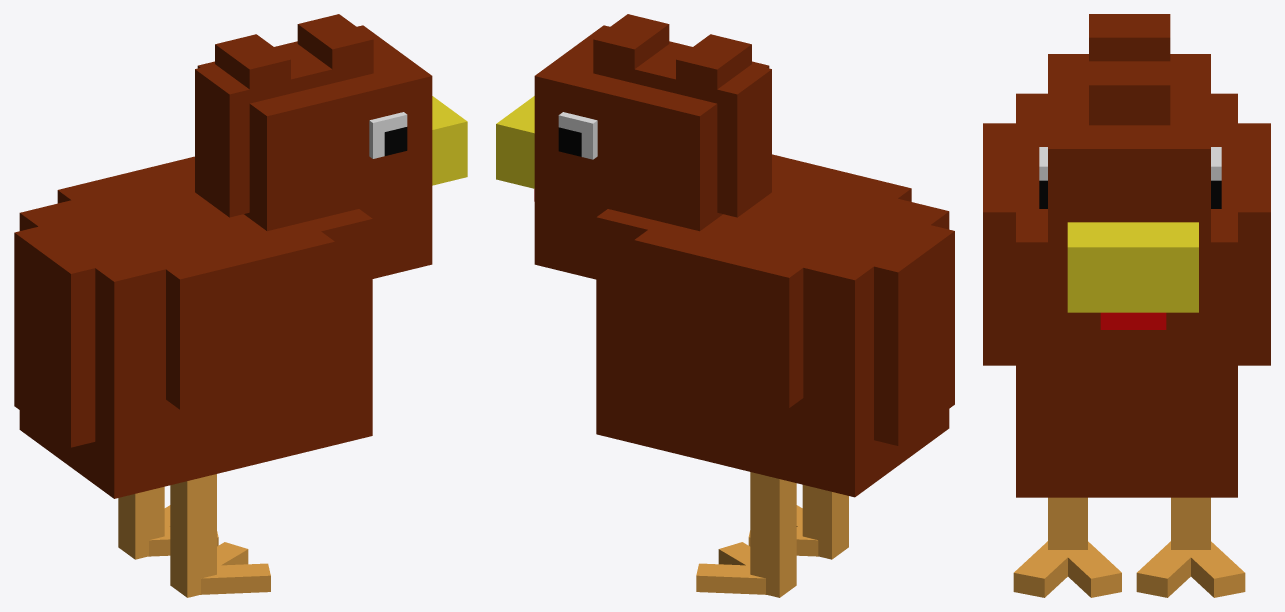
File: Rooster.fbx
The picture shows the model from 3 angles, left to right: view 1: azimuth 30°, elevation 25°; view 2: azimuth 150°, elevation 25°; view 3: azimuth 270°, elevation 25°; orthographic projection. The views are drawn at different scales.
Visible parts, largest first — view 1: Cube.004, Cube, Cube.005, Cube.001, Cube.002, Cube.003; view 2: Cube.004, Cube.001, Cube.005, Cube, Cube.003, Cube.002; view 3: Cube.004, Cube.005, Cube.003, Cube.002, Cube, Cube.001.
Part boxes in pixels (x1,y1,x2,y2): Cube.004: (14,14,432,498); Cube: (170,474,216,597); Cube.005: (369,96,467,185); Cube.001: (118,486,164,559); Cube.002: (200,542,270,594); Cube.003: (148,505,218,556); Cube.004: (534,14,954,497); Cube.001: (750,472,796,597); Cube.005: (496,96,597,201); Cube: (802,485,848,559); Cube.003: (696,542,766,594); Cube.002: (748,505,818,556); Cube.004: (983,14,1270,497); Cube.005: (1039,147,1221,329); Cube.003: (1136,541,1245,597); Cube.002: (1013,541,1121,597); Cube: (1048,497,1087,549); Cube.001: (1171,497,1210,549).
Bounding box in the file's own units: 827 × 982 × 438.
